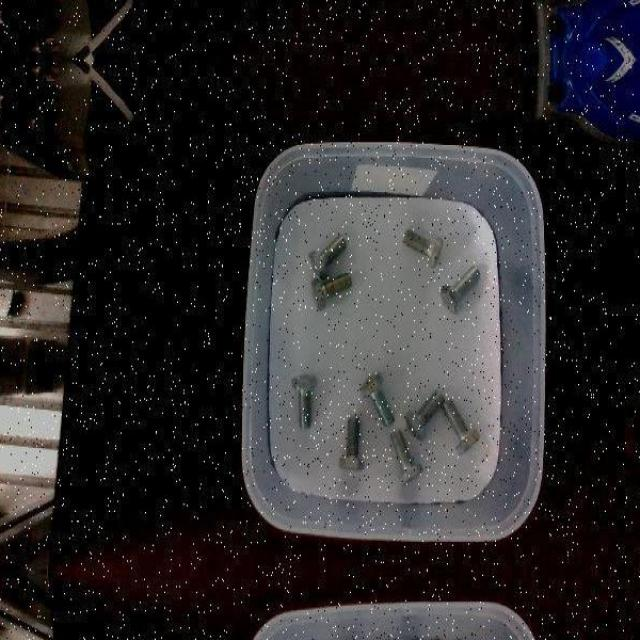screw: (442, 396, 481, 454), (439, 264, 480, 313), (405, 390, 445, 440), (360, 370, 394, 427), (389, 429, 424, 484), (307, 232, 347, 280), (403, 228, 443, 270), (310, 272, 351, 312), (338, 415, 365, 469), (291, 373, 317, 429)
